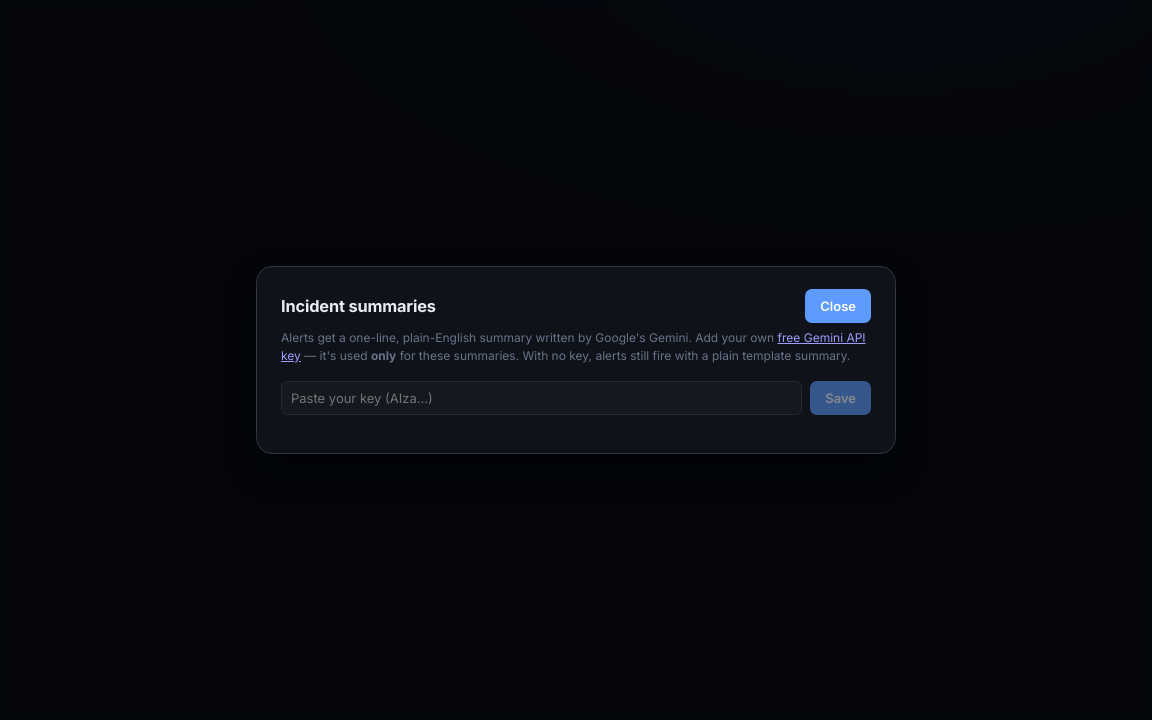
SummarizerKeyPanel › saves a pasted key (Save disabled until something is typed)
The width and height of the screenshot is (1152, 720).
Expected: the button "Save" is disabled, x1=810 y1=381 x2=871 y2=415
Type "AIzaSyA-fake-gemini-key-1234" into the password field named "gemini api key" at (542, 398), box x1=281 y1=381 x2=802 y2=415
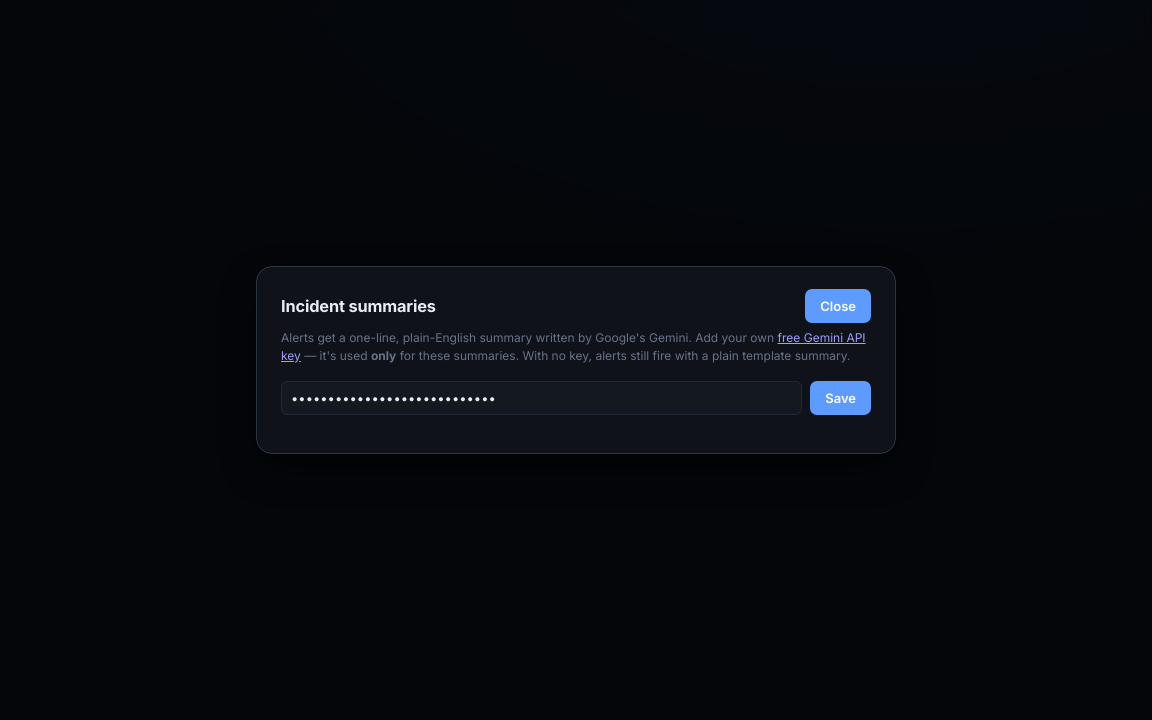
Click the button "Save" at (841, 398), box x1=810 y1=381 x2=871 y2=415
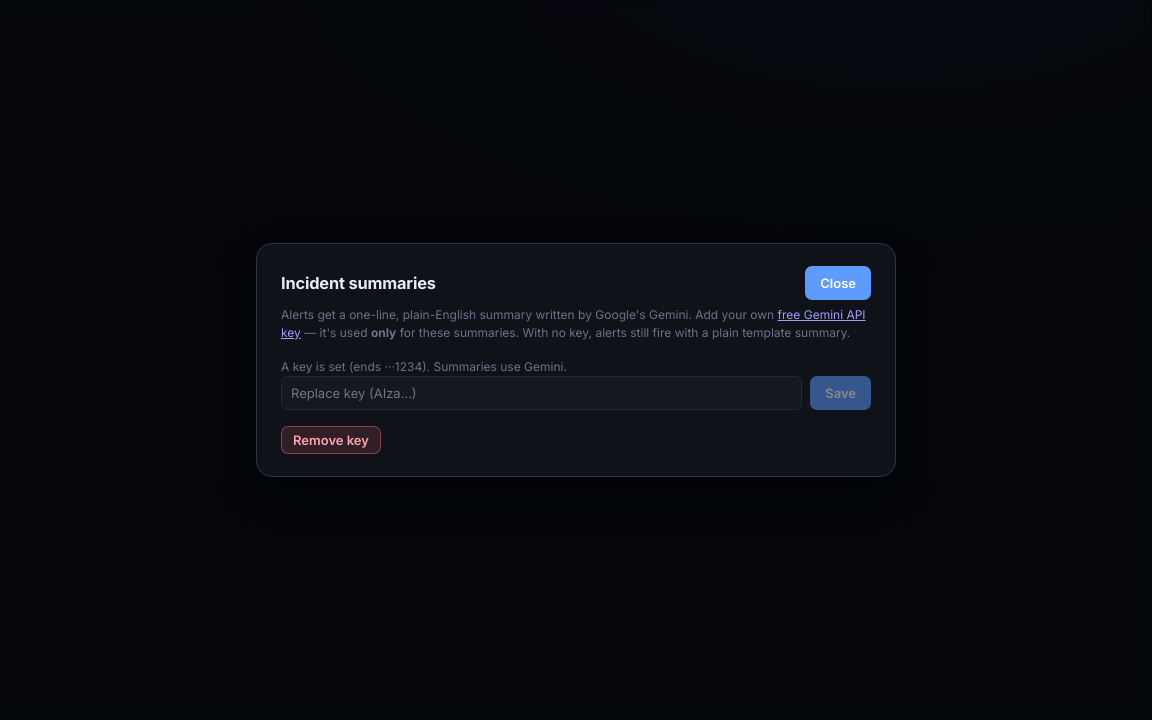
Expected: the text "A key is set (ends ···1234). Summaries use Gemini." is shown, x1=281 y1=359 x2=567 y2=374
